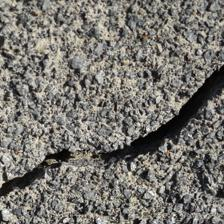Crack: (69, 0, 153, 96), (73, 58, 176, 117)
